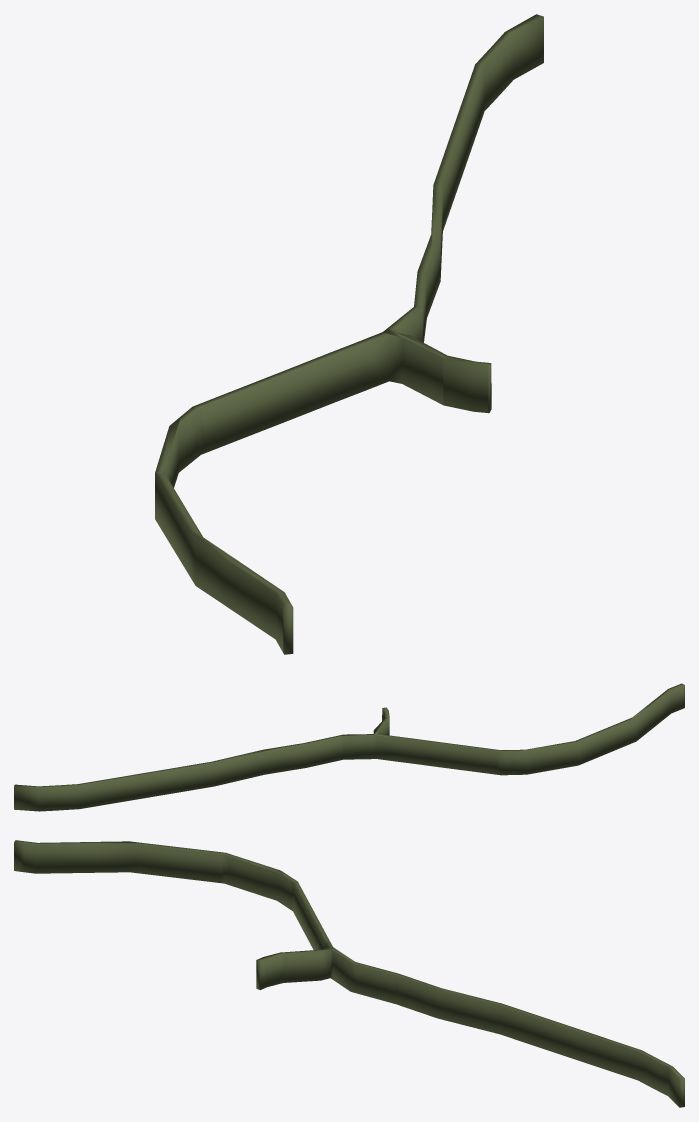
Rendered from pacific_connections.fbx.
3 views of the same model, one above another, from view 1: azimuth 30°, elevation 25°; view 2: azimuth 150°, elevation 25°; view 3: azimuth 270°, elevation 25° (orthographic). The views are drawn at different scales.
Visible parts, largest first — view 1: pacific_connections; view 2: pacific_connections; view 3: pacific_connections.
Part boxes in pixels (bbox=[...]): pacific_connections: bbox=[155, 14, 543, 654]; pacific_connections: bbox=[14, 683, 684, 811]; pacific_connections: bbox=[14, 840, 684, 1107].
Bounding box in the file's own units: 19554 × 1107 × 23116.
Materials: 1 (1 with a texture image).
